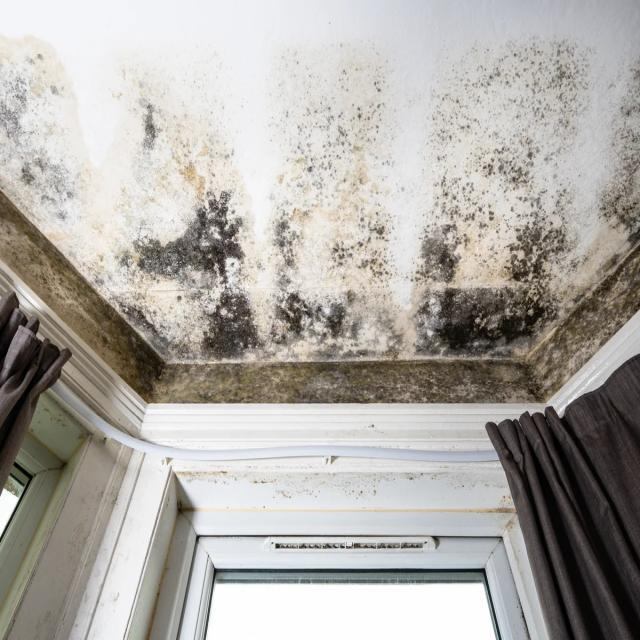dampness: (1, 33, 639, 406)
